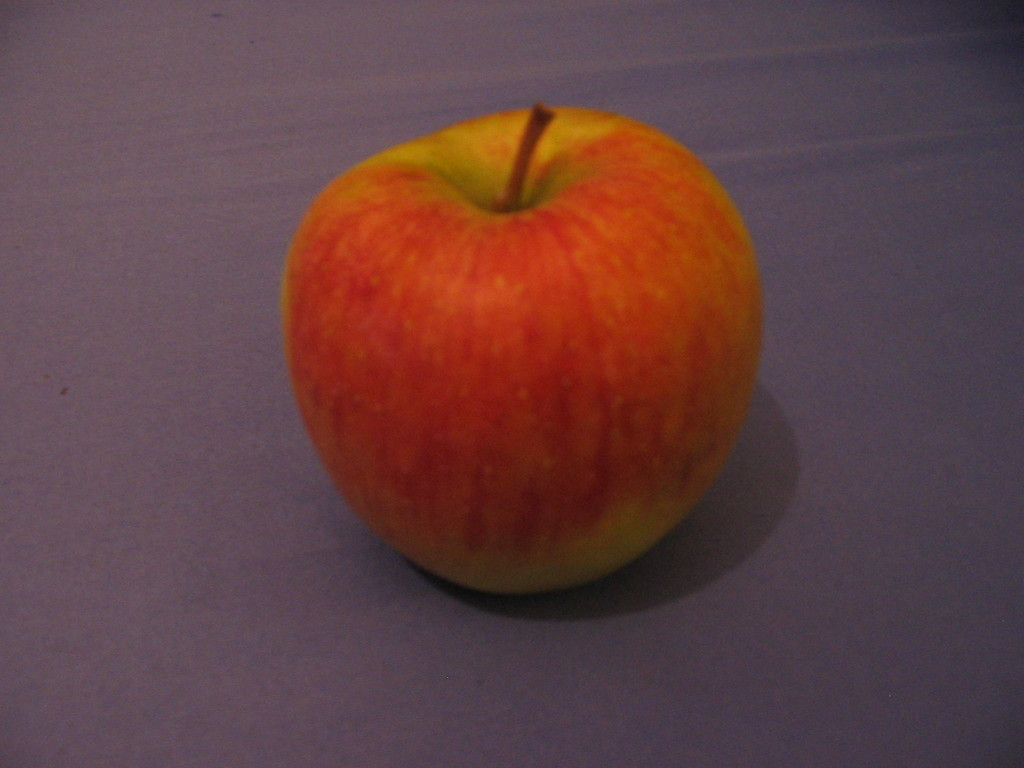Apple: (277, 113, 755, 611)
